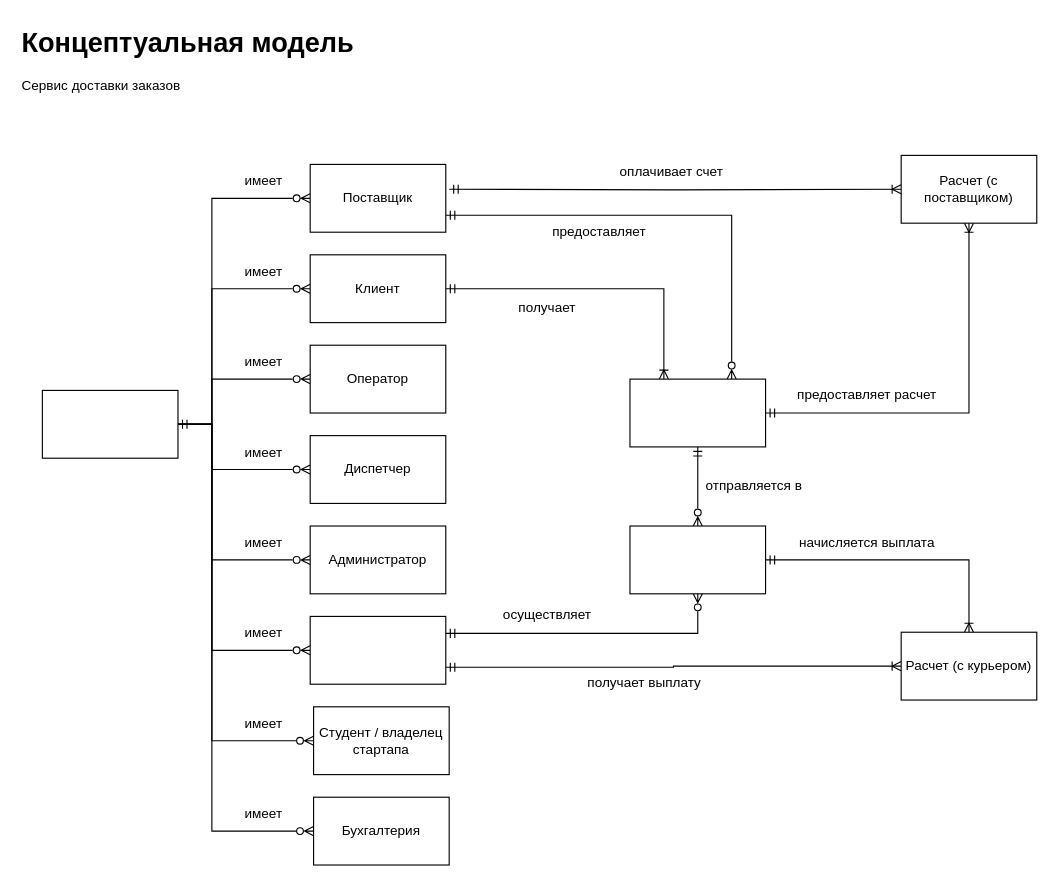
This 1057x885 diagram has some shape labels left out. The shapes that lost their labels are listed below. From the top down, each one's centre as x and y in pixels, then its label:
At [109,423]: "Роль пользователя и доступы".
At [697,412]: "Заказ".
At [697,559]: "Доставка".
At [377,649]: "Курьер".
